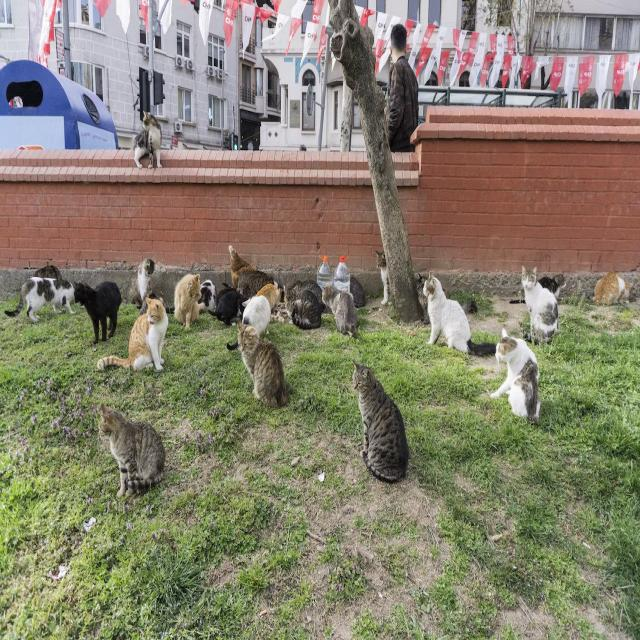cat: (352, 360, 409, 482), (99, 405, 165, 496), (424, 274, 496, 354), (98, 296, 168, 370), (490, 328, 540, 423), (238, 323, 288, 407), (5, 276, 74, 322), (74, 281, 121, 342), (521, 266, 558, 343), (322, 285, 358, 335), (126, 259, 155, 313), (134, 113, 161, 169), (175, 274, 201, 328), (215, 283, 246, 325), (238, 268, 279, 298), (291, 289, 321, 329), (285, 279, 325, 309), (592, 272, 630, 303), (242, 294, 271, 334), (229, 246, 256, 287), (376, 251, 390, 305), (538, 274, 566, 298), (258, 283, 282, 310), (199, 279, 216, 312), (34, 264, 62, 279), (510, 298, 525, 304)
